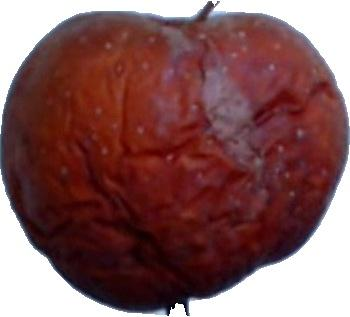Apple Overripe: (0, 0, 350, 301)
